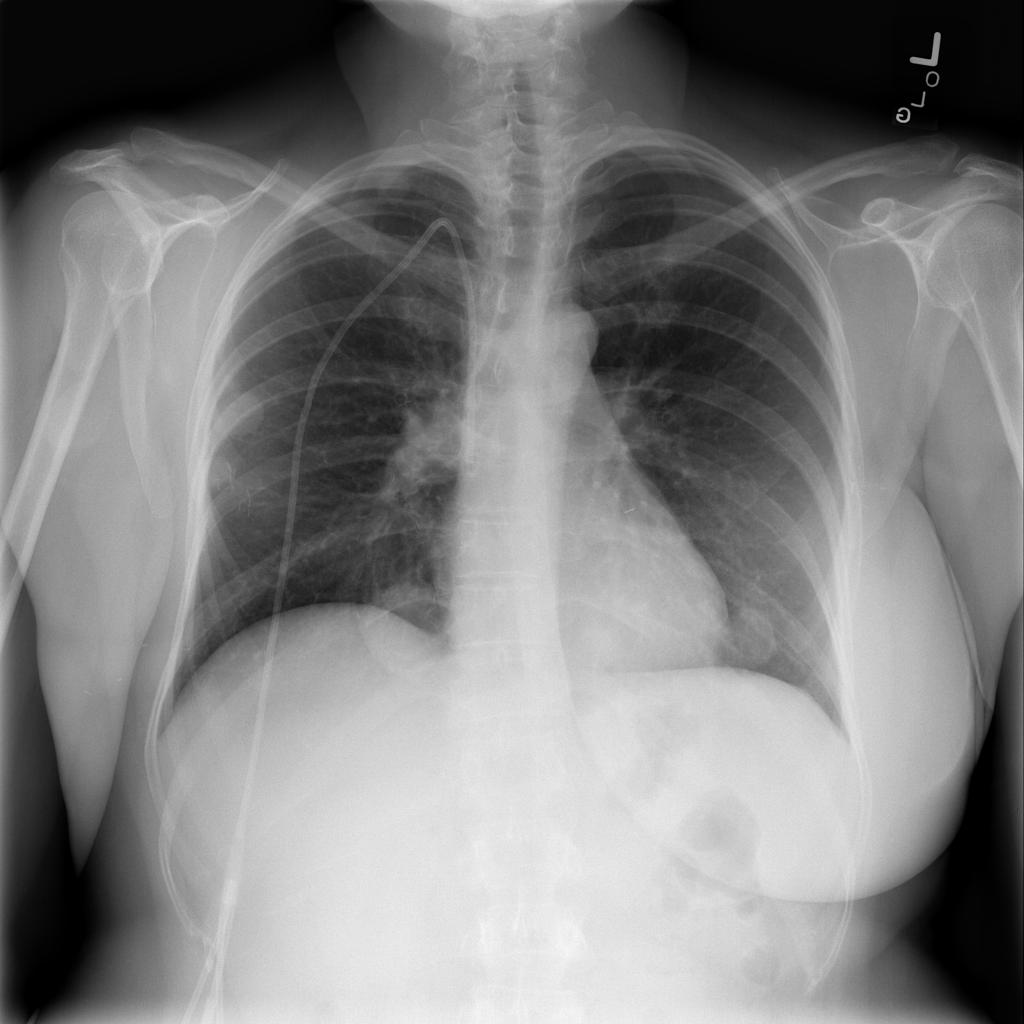nodule: (353, 580, 459, 681), (715, 593, 792, 672), (203, 378, 276, 456), (568, 606, 636, 681), (195, 449, 244, 500)
